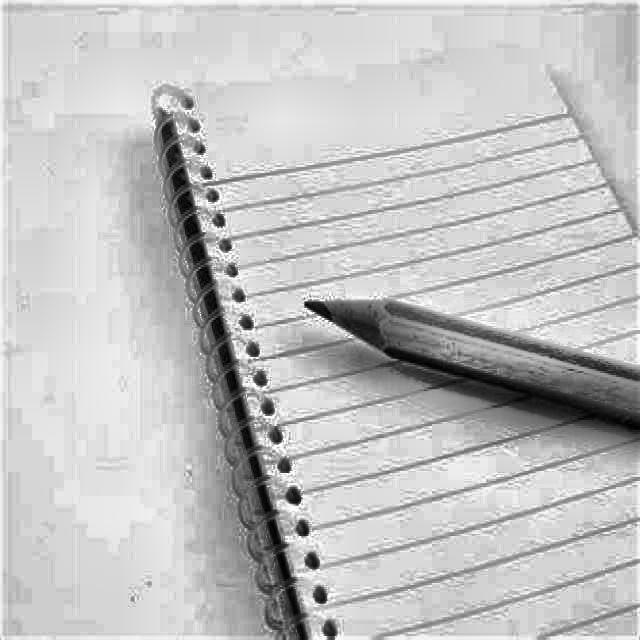Notebook: (149, 69, 640, 640)
